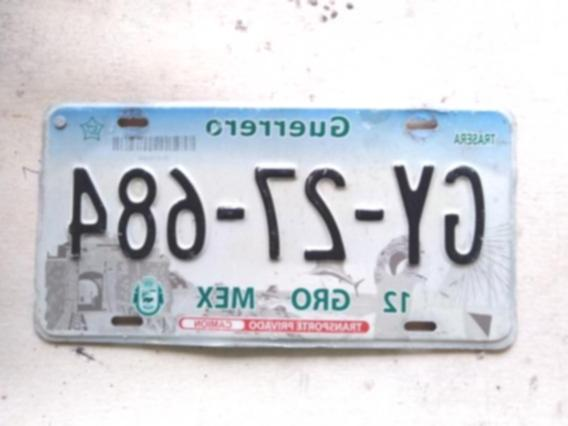License_Plate: (23, 96, 528, 358)
